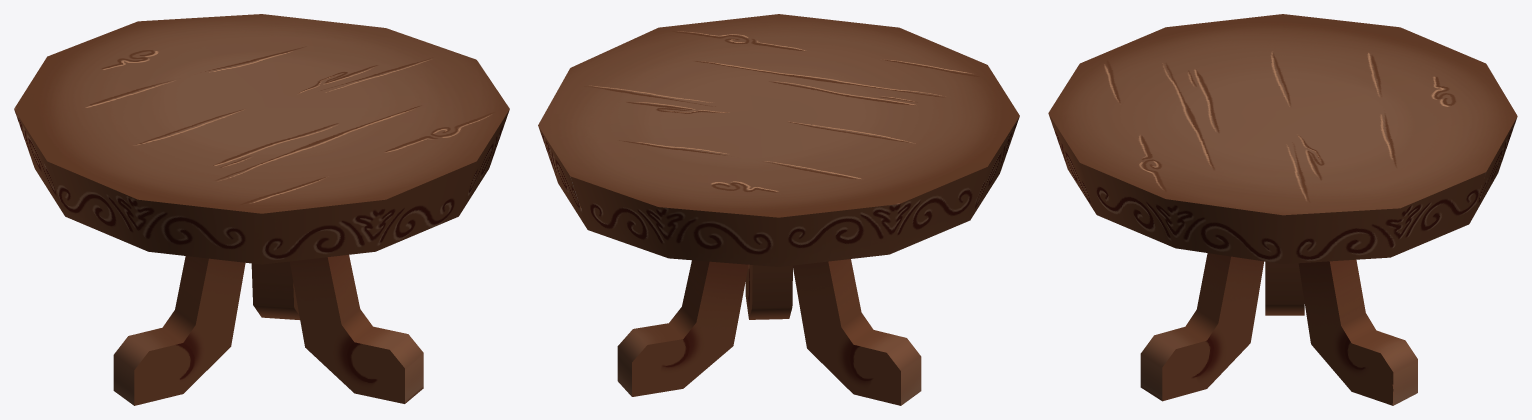
The model's file is PVB export ronde tafel.fbx.
3 views of the same model, side by side, from view 1: azimuth 30°, elevation 25°; view 2: azimuth 150°, elevation 25°; view 3: azimuth 270°, elevation 25° (orthographic). The views are drawn at different scales.
Visible parts, largest first — view 1: tafel_plaat, poot_2, poot_1, poot_3; view 2: tafel_plaat, poot_1, poot_3, poot_2; view 3: tafel_plaat, poot_2, poot_3, poot_1.
Boxes of the visible parts, box(x1,y1,x2,y2) form: tafel_plaat: box(14, 14, 509, 264); poot_2: box(289, 255, 423, 403); poot_1: box(113, 256, 245, 405); poot_3: box(251, 261, 299, 319); tafel_plaat: box(538, 14, 1019, 266); poot_1: box(793, 259, 921, 405); poot_3: box(617, 260, 748, 396); poot_2: box(745, 264, 792, 319); tafel_plaat: box(1048, 14, 1517, 264); poot_2: box(1140, 253, 1264, 401); poot_3: box(1298, 259, 1417, 405); poot_1: box(1265, 261, 1304, 315).
Bounding box in the file's own units: 2 × 1.14 × 2.
Materials: 1 (1 with a texture image).
